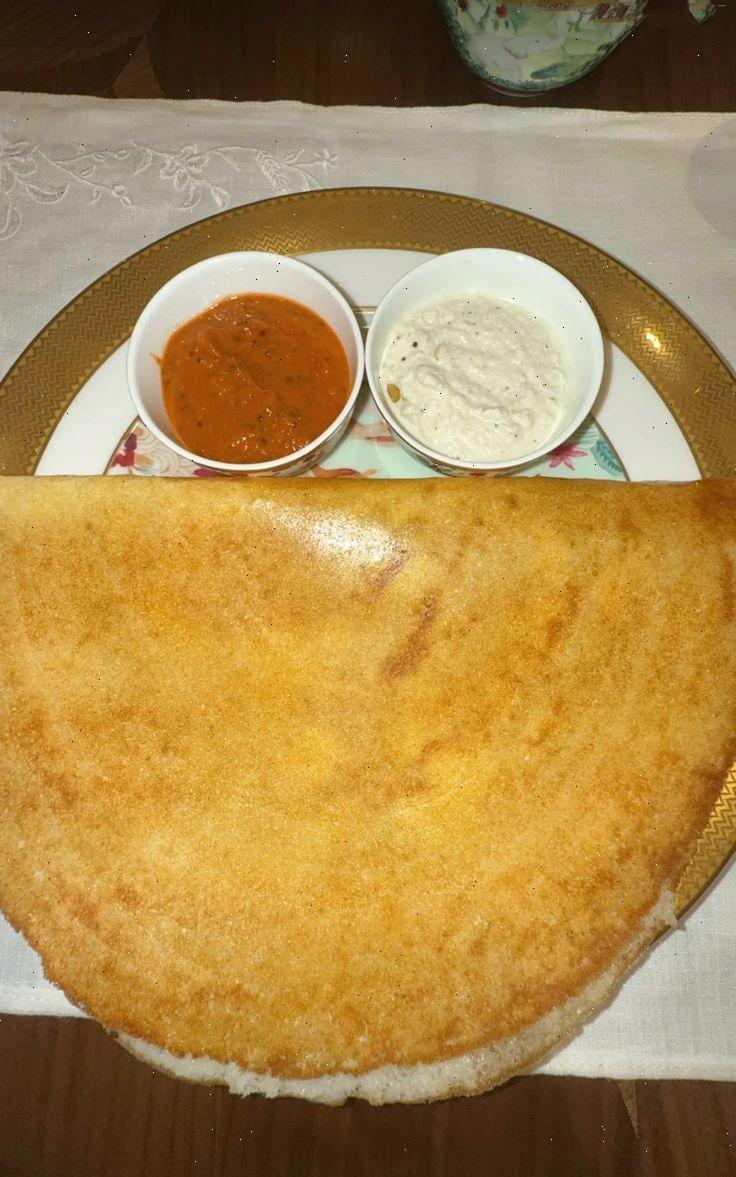dosa: (0, 475, 736, 1098)
